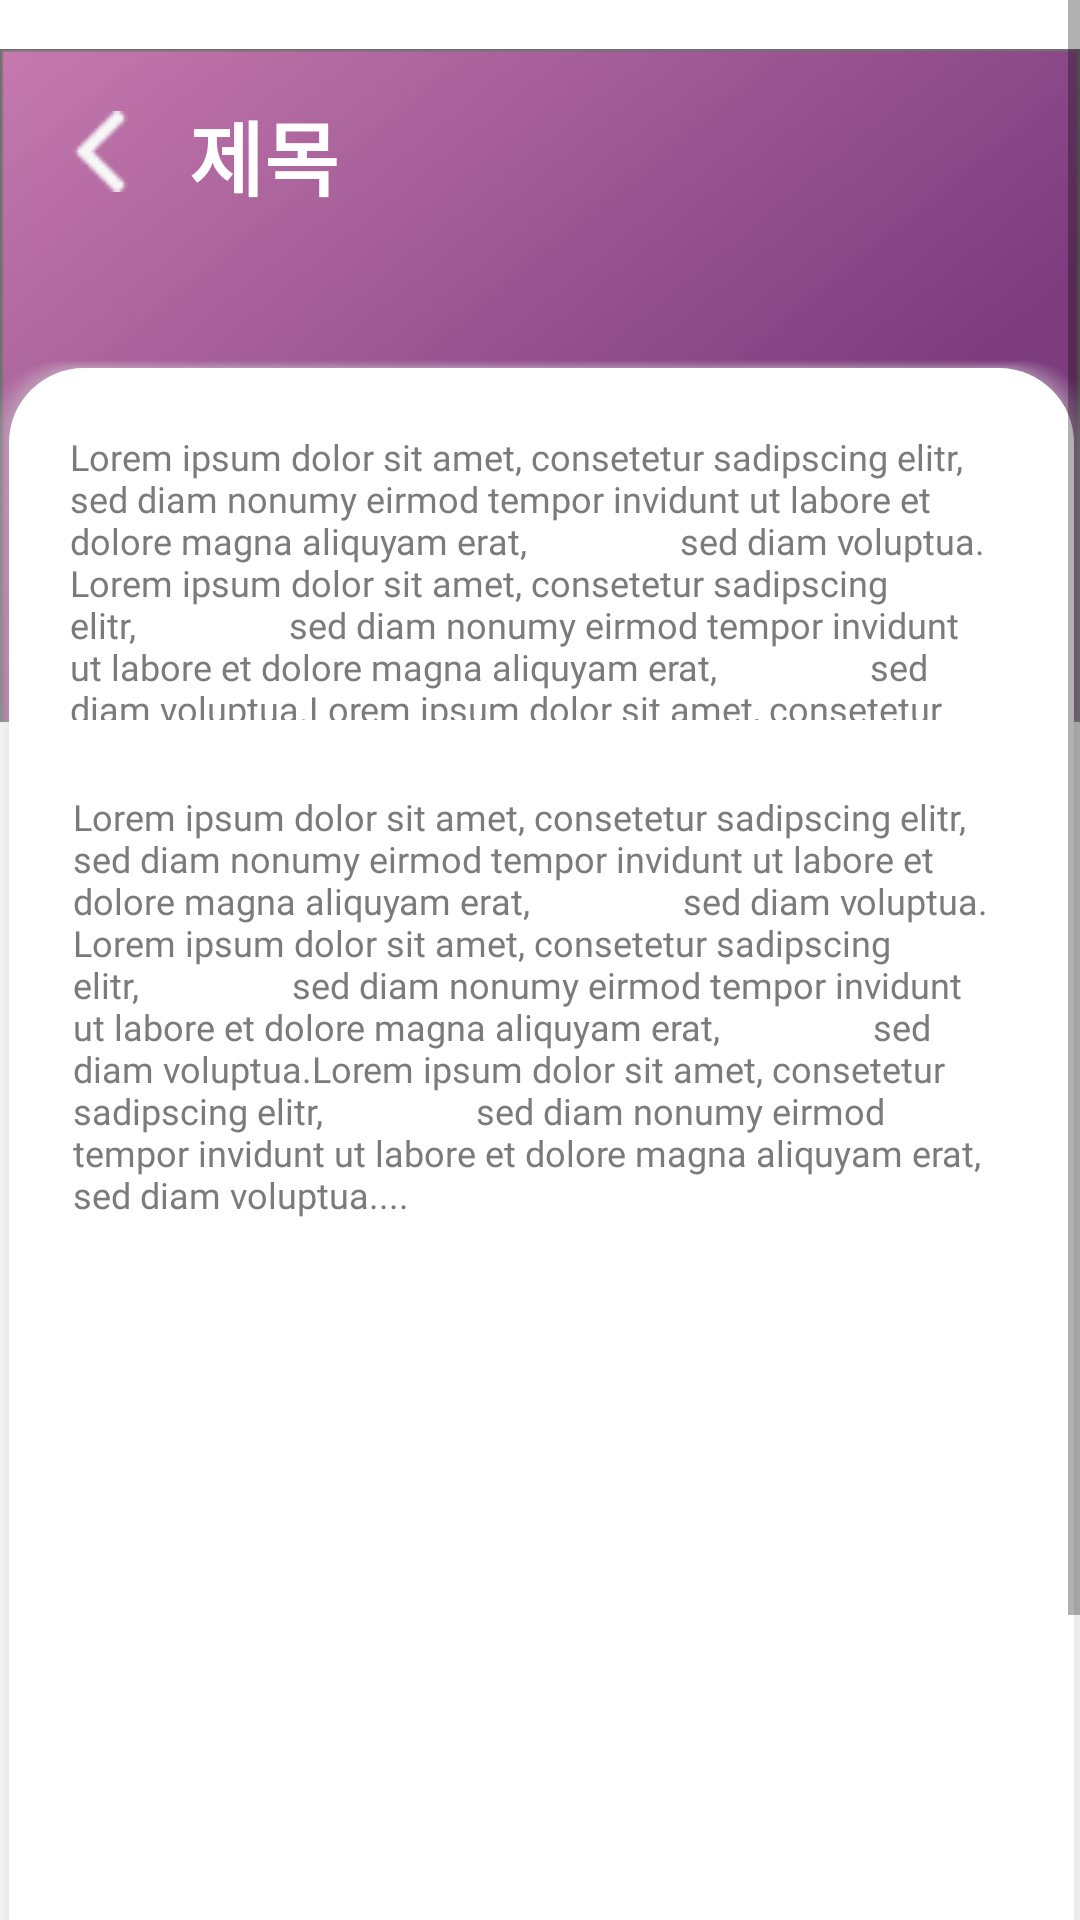

Point at icon controls on the screen. Image size 1080px x 1920px, points as (x=x, y=y).
arrow: (x=100, y=151)
